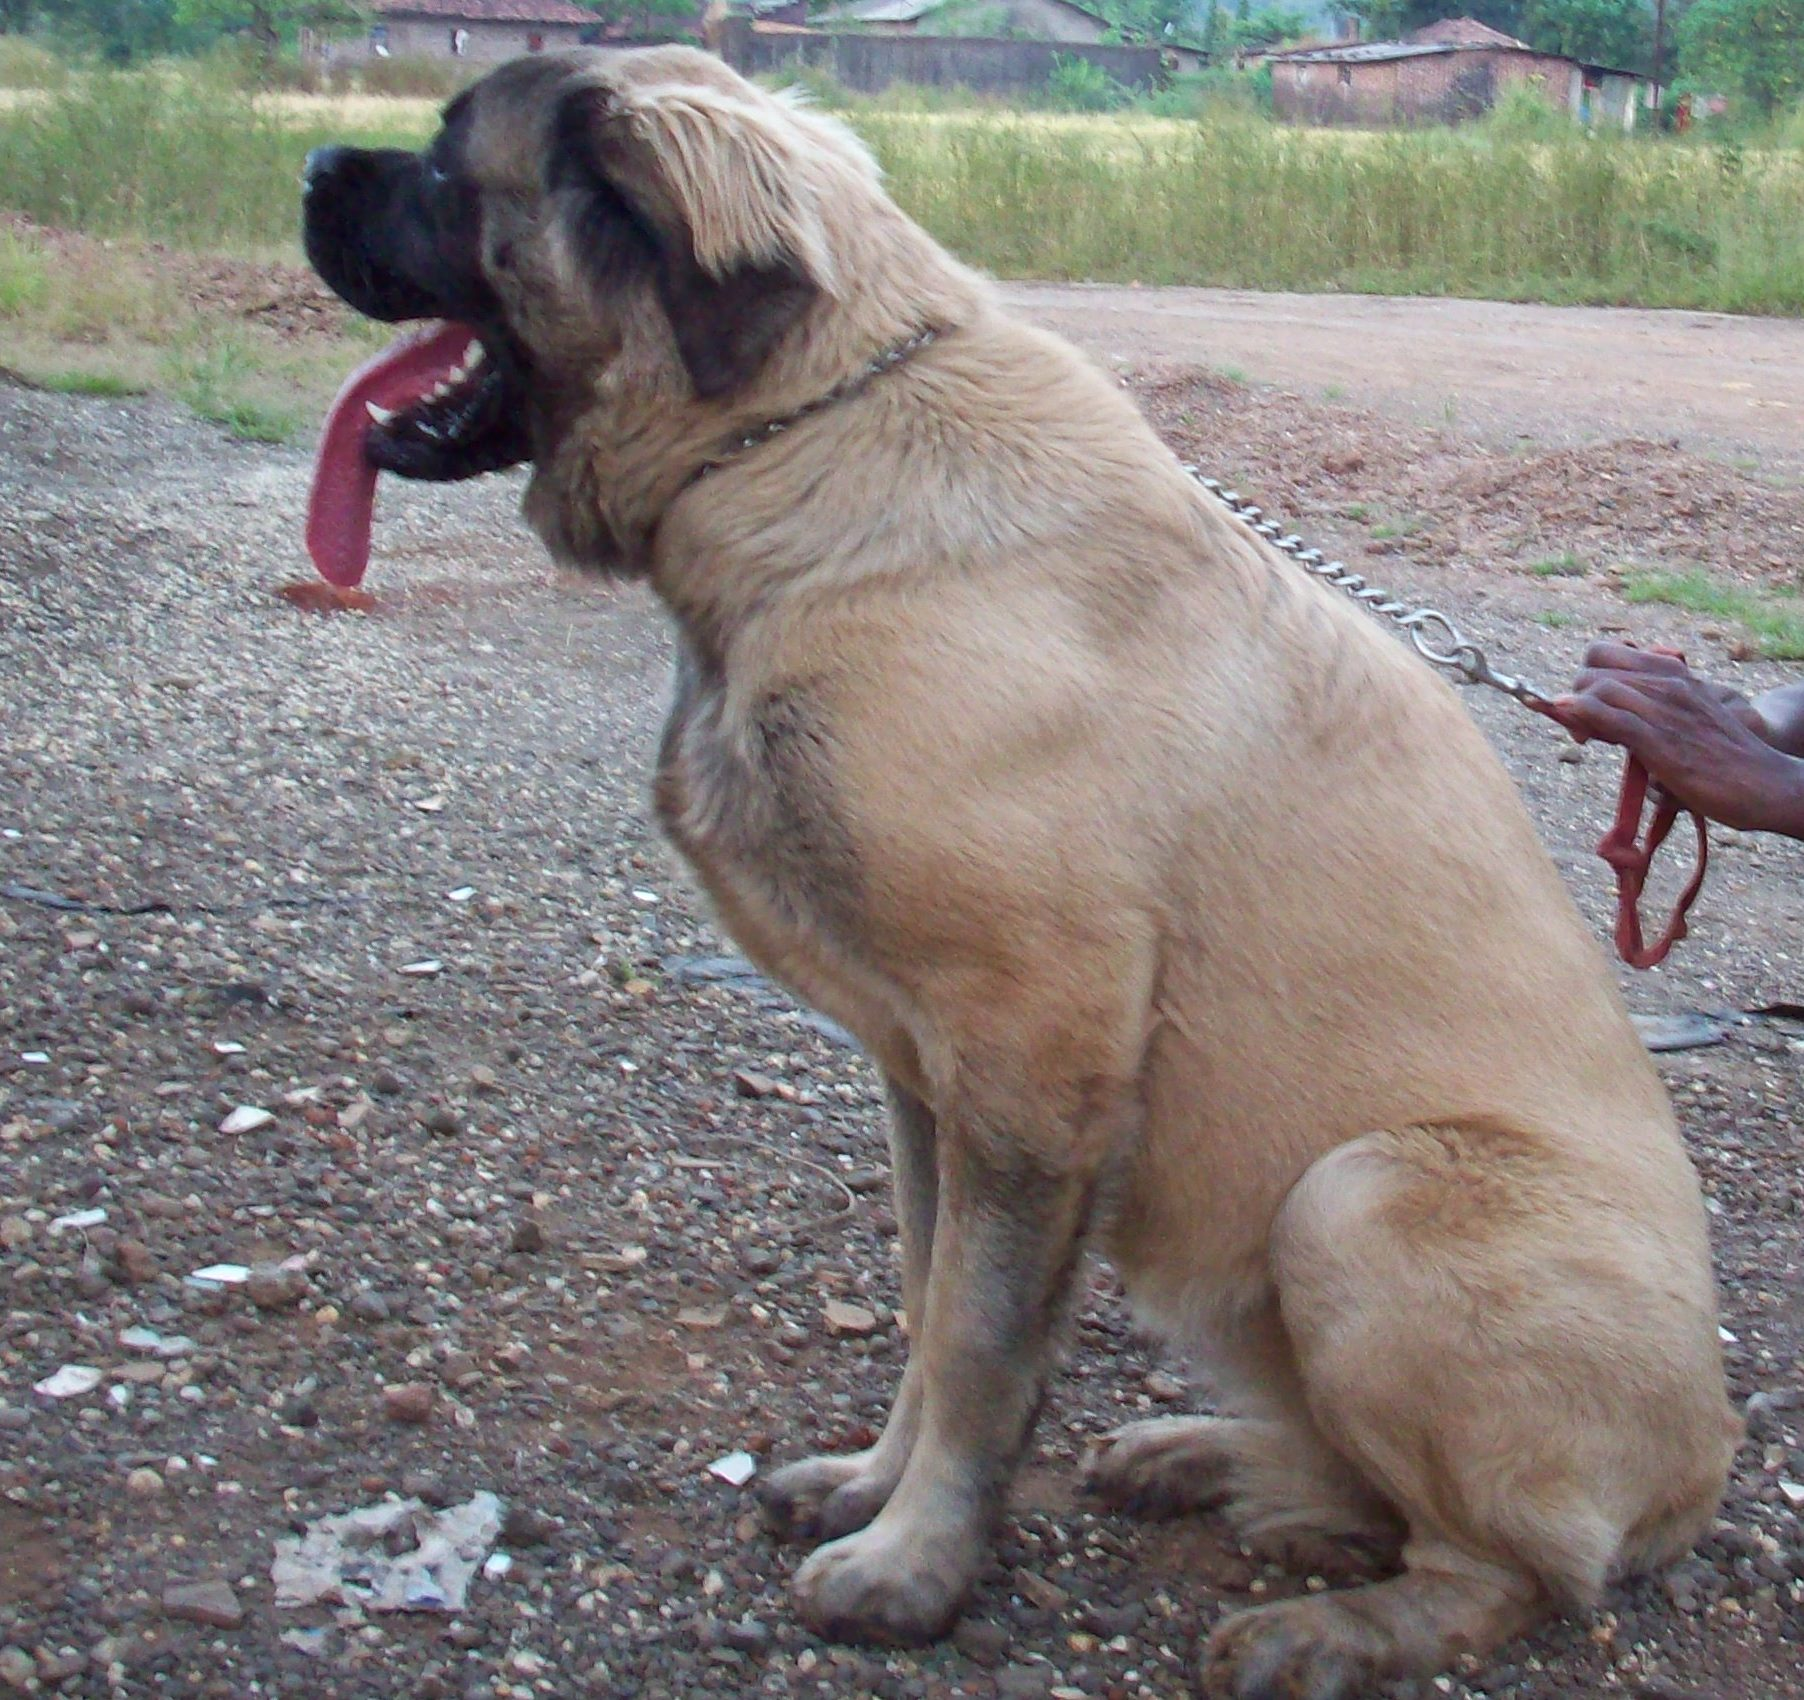mastiff: (296, 40, 1743, 1700)
